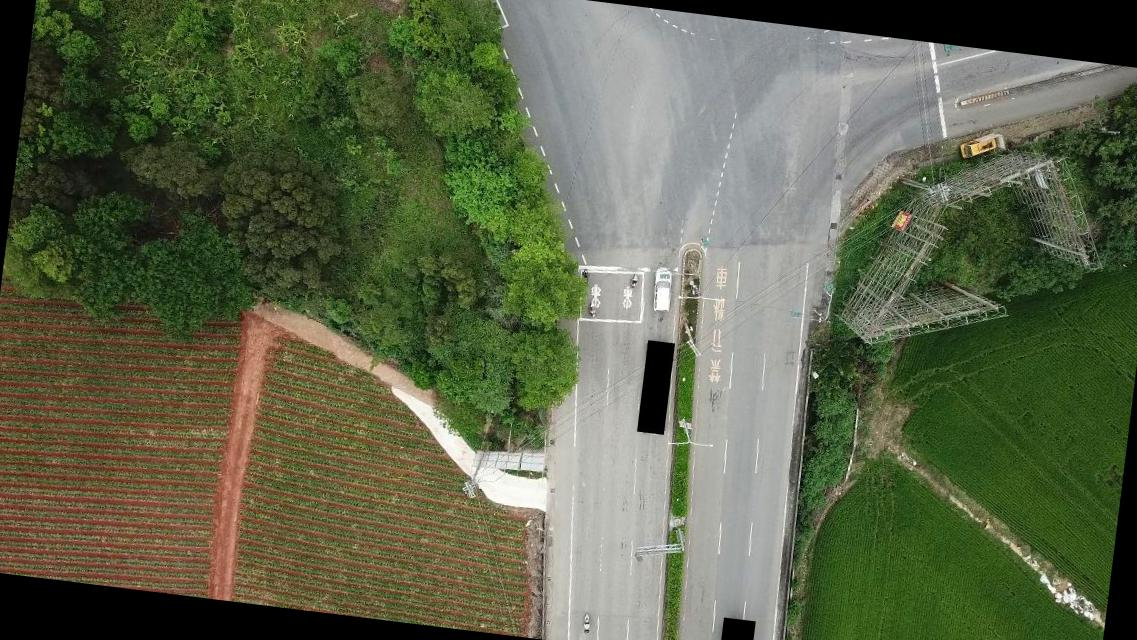vehicle: (648, 265, 675, 314), (957, 133, 1000, 163)
